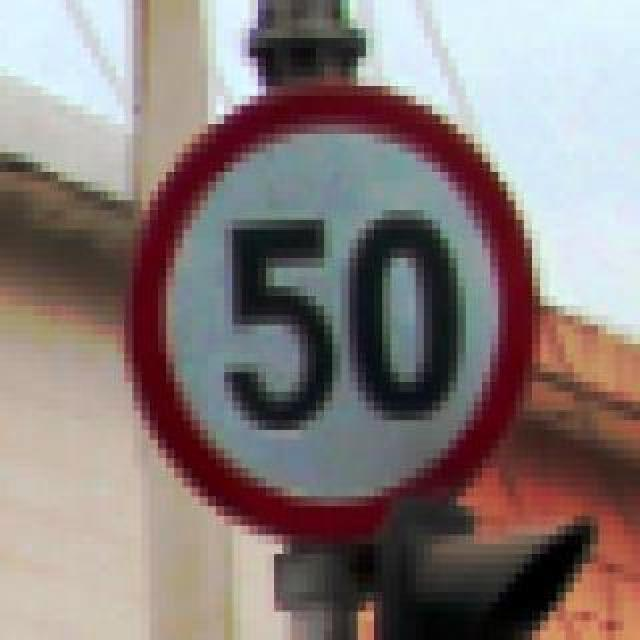50 kph: (124, 68, 532, 536)
